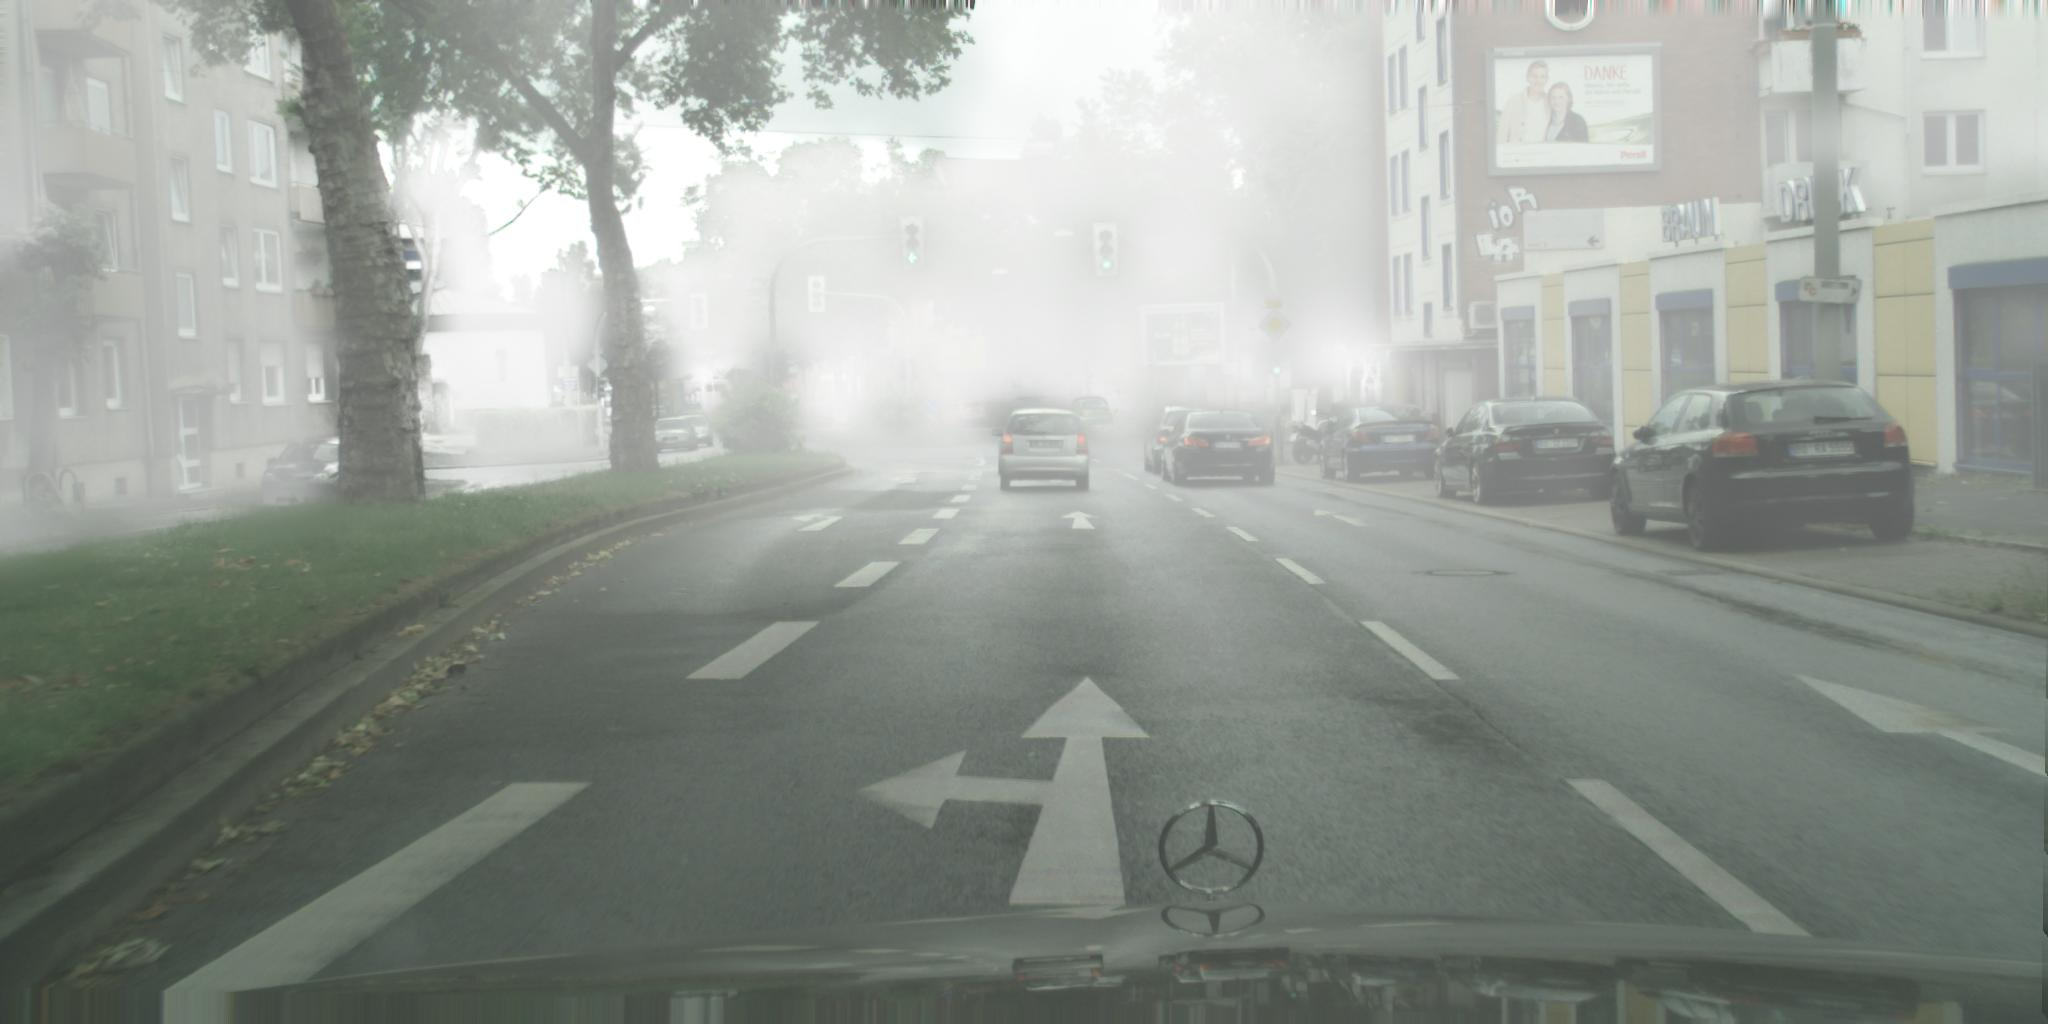car: (1609, 380, 1916, 552), (1434, 396, 1620, 505), (1318, 405, 1448, 485), (1159, 410, 1276, 486), (993, 408, 1093, 491), (263, 439, 354, 505), (1144, 405, 1217, 475), (645, 417, 699, 455), (1004, 396, 1059, 428), (1062, 396, 1114, 430), (942, 400, 987, 427), (674, 415, 713, 447), (679, 406, 707, 424), (649, 406, 670, 421)
motorcycle: (1290, 415, 1351, 466)
